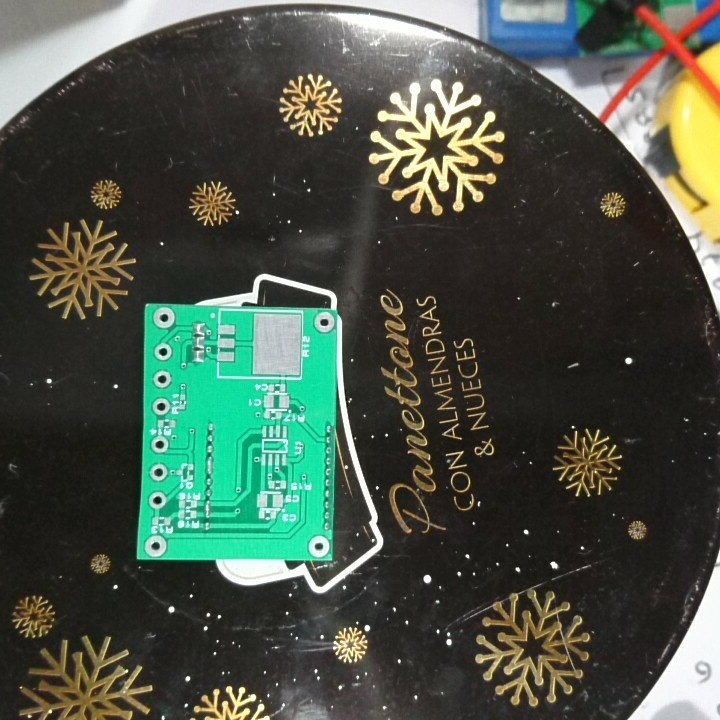F: (142, 532, 168, 557), (306, 533, 332, 558), (151, 305, 176, 330), (313, 309, 336, 334), (147, 488, 168, 510), (148, 461, 168, 483), (151, 369, 172, 389), (149, 434, 169, 455), (151, 397, 172, 416), (153, 342, 173, 361)
P: (201, 499, 212, 519), (203, 454, 213, 475)
